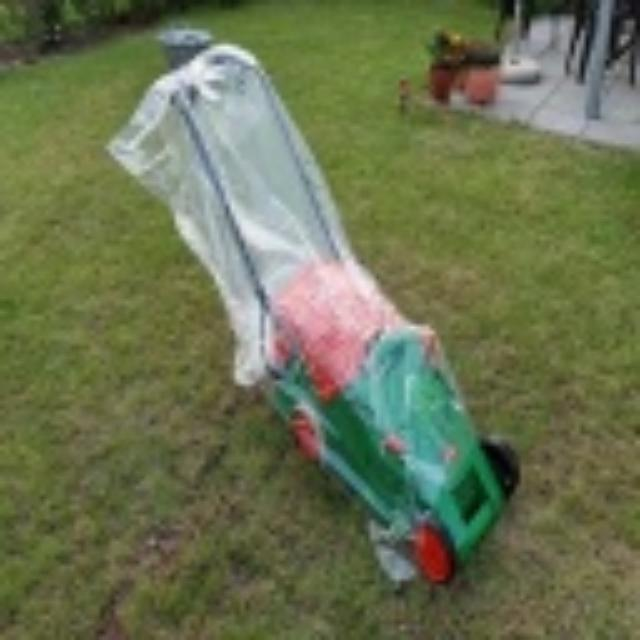Rotary-Mower: (86, 28, 574, 578)
